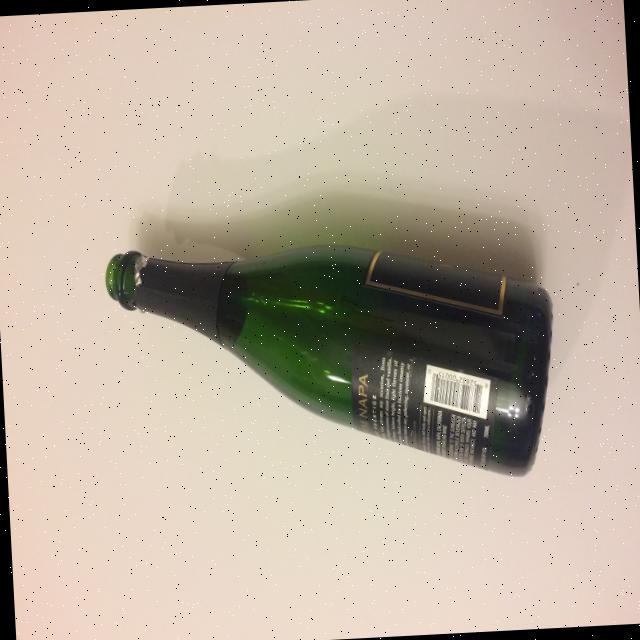glass: (104, 226, 562, 498)
